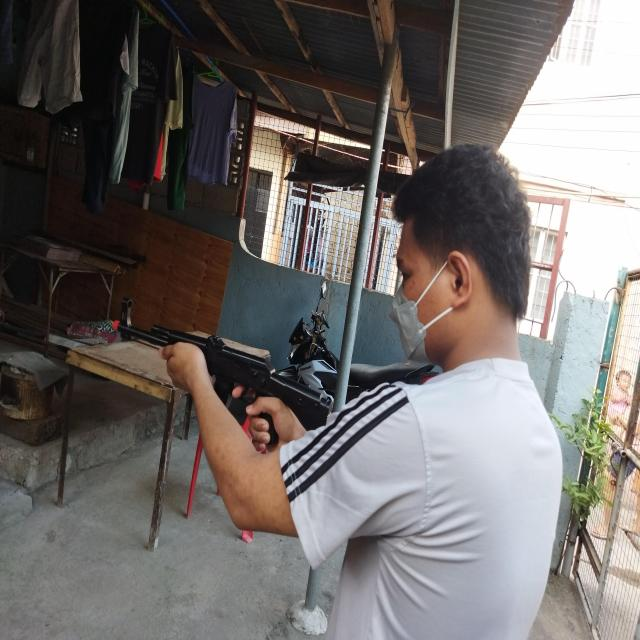rifle: (111, 297, 332, 429)
